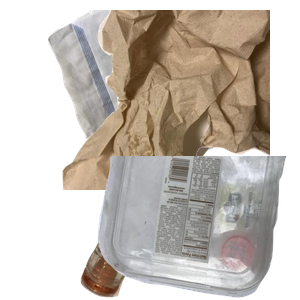glass: (78, 128, 298, 300)
paper: (45, 10, 251, 190)
plastic: (95, 156, 300, 300)
trash: (60, 10, 300, 190)
